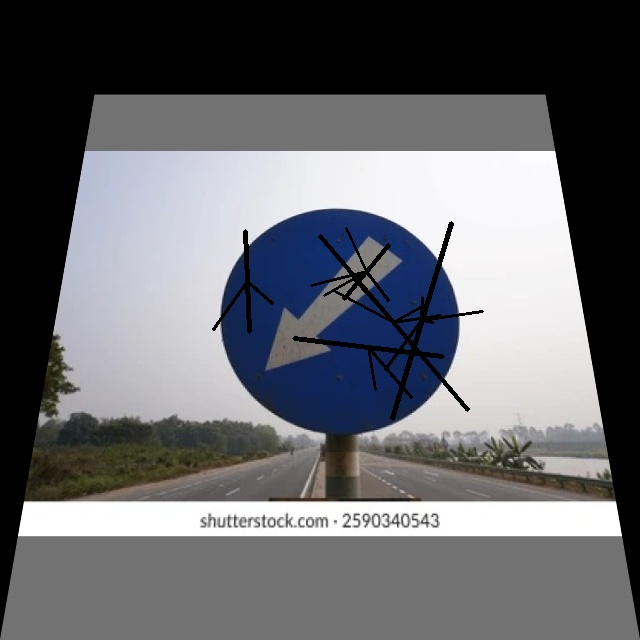Compulsory_Keep_Left: (214, 209, 468, 437)
